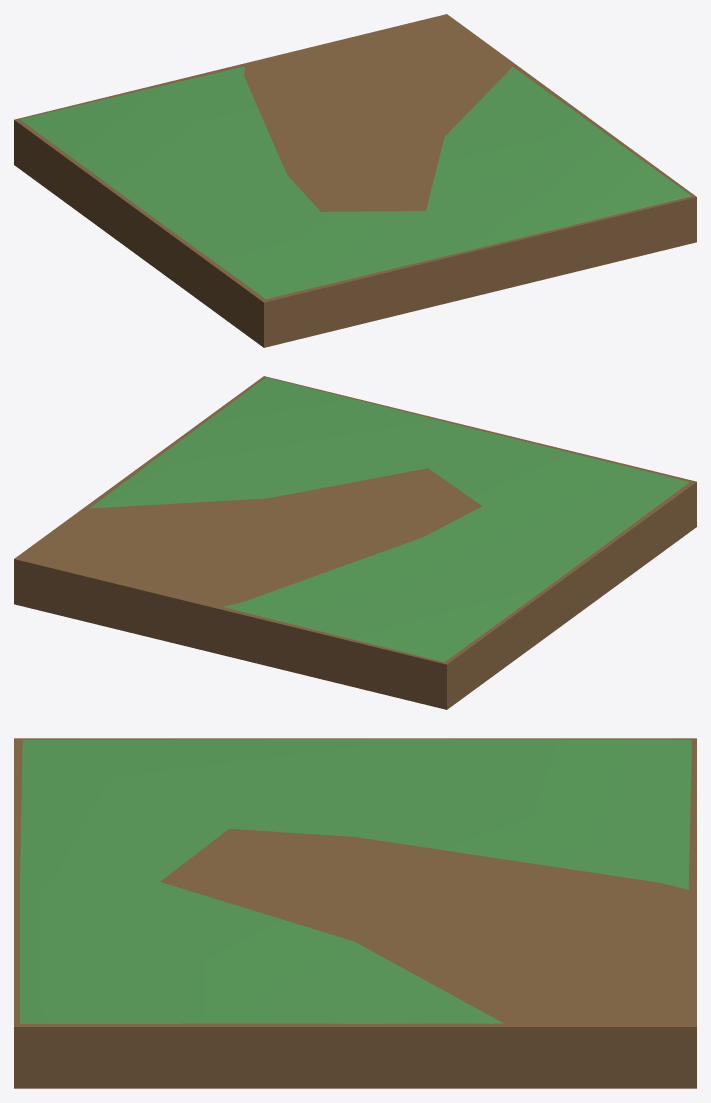
The model's file is stage1_floor_01.glb.
The picture shows the model from 3 angles, top to bottom: view 1: azimuth 30°, elevation 25°; view 2: azimuth 150°, elevation 25°; view 3: azimuth 270°, elevation 25°; orthographic projection. The views are drawn at different scales.
Parts seen in each view (by area): view 1: stage1_floor_01_dirt, stage1_floor_01_grass; view 2: stage1_floor_01_grass, stage1_floor_01_dirt; view 3: stage1_floor_01_grass, stage1_floor_01_dirt.
Boxes of the visible parts, <box> form: stage1_floor_01_dirt: <box>14,14,696,347</box>; stage1_floor_01_grass: <box>20,66,690,298</box>; stage1_floor_01_grass: <box>89,377,688,661</box>; stage1_floor_01_dirt: <box>14,376,696,709</box>; stage1_floor_01_grass: <box>20,739,691,1023</box>; stage1_floor_01_dirt: <box>14,738,696,1088</box>.
Bounding box in the file's own units: 1 × 0.1029 × 1.
